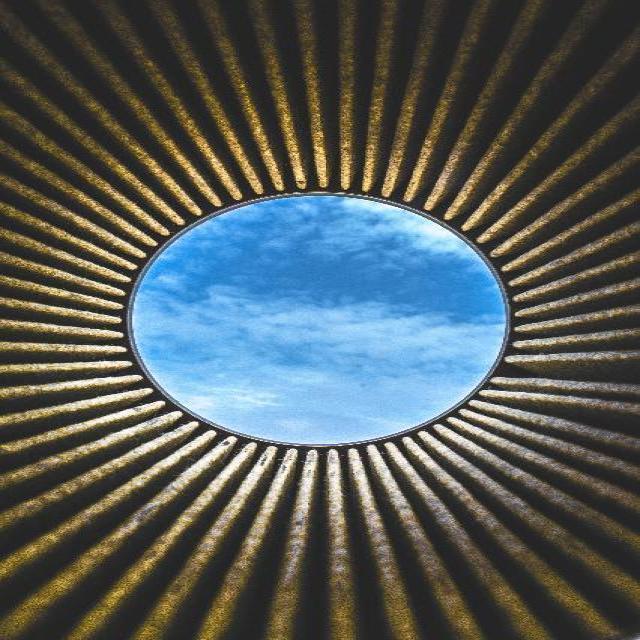Circle: (122, 187, 516, 456)
